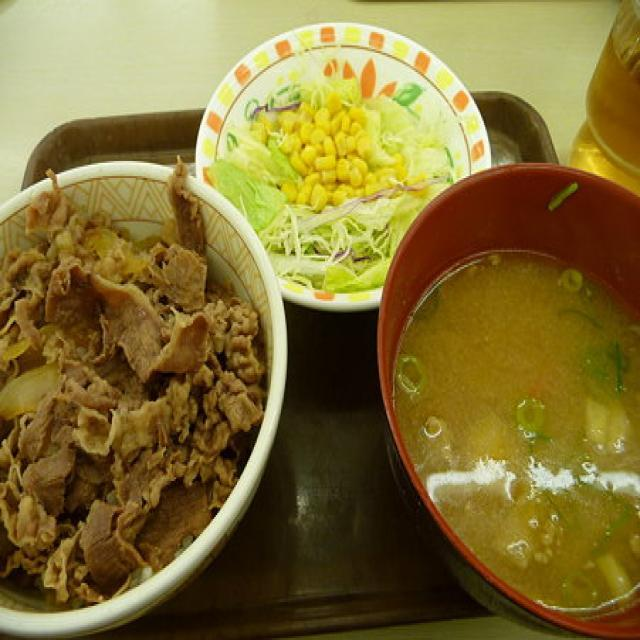Green Salad: (235, 90, 415, 280)
